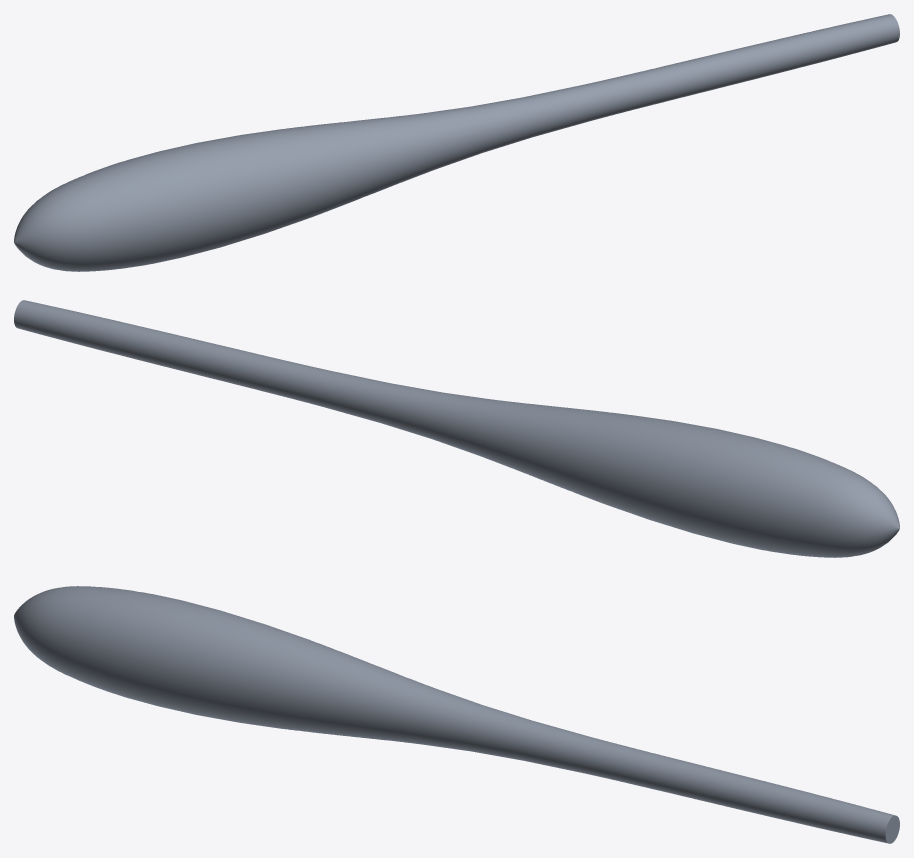
Rendered from step-1.glb.
The picture shows the model from 3 angles, top to bottom: view 1: azimuth 30°, elevation 25°; view 2: azimuth 150°, elevation 25°; view 3: azimuth 330°, elevation 25°; orthographic projection.
Visible parts, largest first — view 1: face_a33656f2b02c9b817b9c; view 2: face_a33656f2b02c9b817b9c; view 3: face_a33656f2b02c9b817b9c.
Boxes of the visible parts, x1,y1,x2,y2 form: face_a33656f2b02c9b817b9c: [14, 14, 899, 271]; face_a33656f2b02c9b817b9c: [14, 300, 899, 557]; face_a33656f2b02c9b817b9c: [14, 586, 895, 843].
Bounding box in the file's own units: 0.14 × 0.015 × 0.015.
